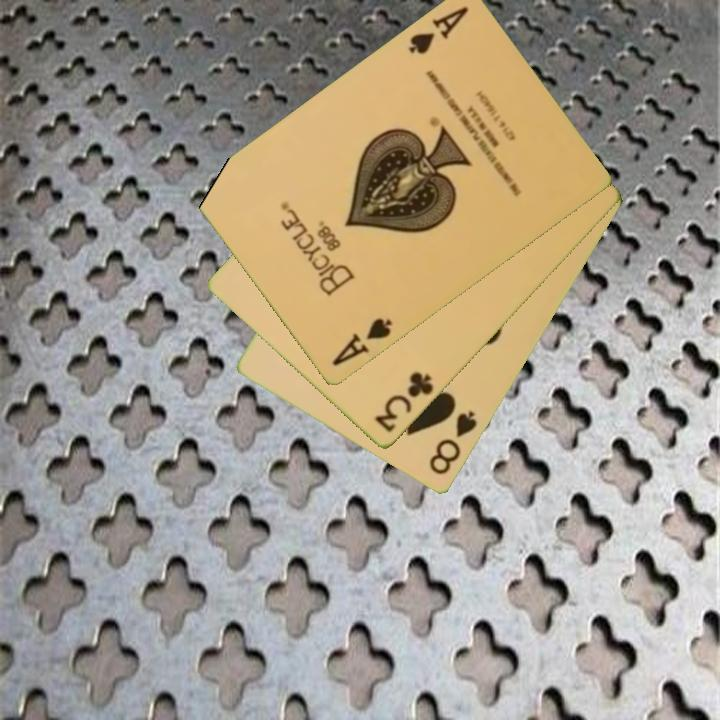3c: (371, 368, 437, 436)
8s: (425, 407, 481, 479)
As: (328, 315, 396, 370), (405, 3, 472, 58)
